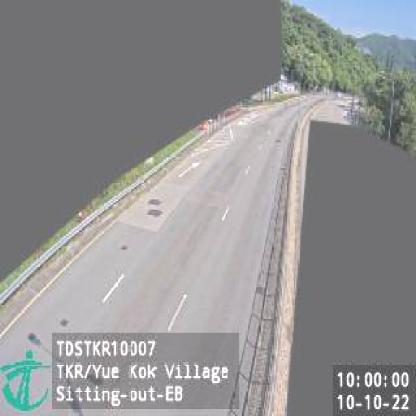Car: (148, 195, 164, 213)
